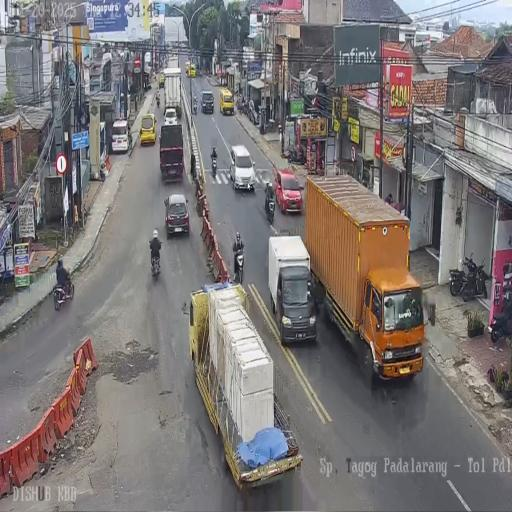3: (306, 173, 423, 384), (190, 278, 300, 490), (271, 234, 316, 344), (159, 122, 184, 182)
car: (273, 165, 302, 215), (228, 144, 254, 192), (164, 194, 190, 238), (111, 118, 130, 154), (139, 113, 156, 145), (219, 88, 234, 116), (200, 90, 214, 114), (163, 107, 178, 127), (186, 62, 196, 78), (159, 72, 165, 88)
truck: (448, 253, 488, 302), (490, 292, 512, 343), (53, 275, 74, 310), (286, 144, 306, 165), (234, 249, 244, 284), (150, 247, 161, 277), (265, 196, 275, 225), (211, 151, 217, 176), (236, 95, 244, 113), (242, 98, 249, 116), (192, 99, 197, 115), (156, 94, 160, 108), (198, 65, 202, 76)
